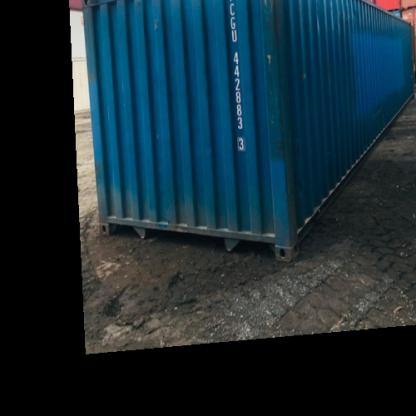Damage: (262, 37, 292, 174), (307, 5, 361, 32), (301, 61, 316, 83)
